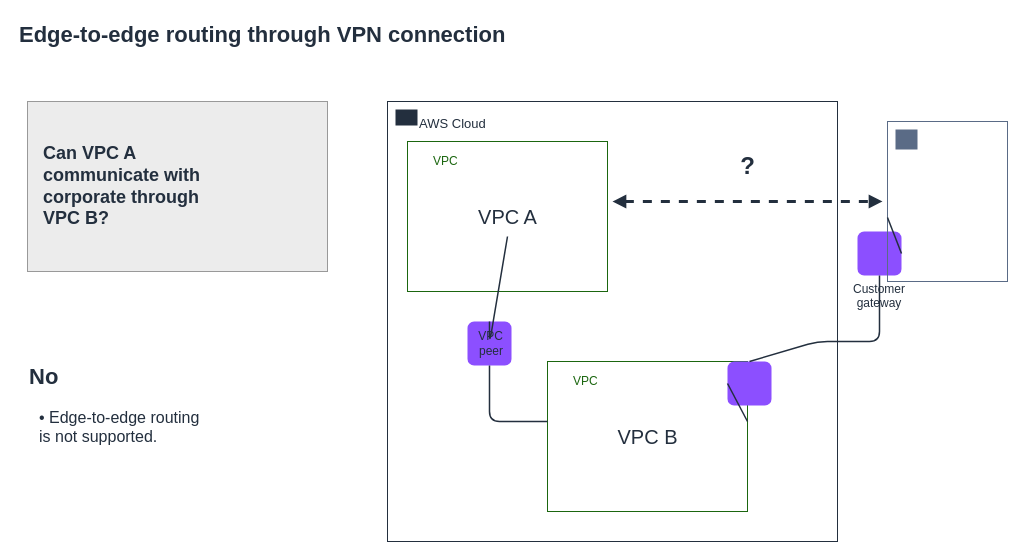
Some shapes in this 1025 by 559 pixel diagram are drawn without their labels. The box of each missing label's shape, as (x1, y1, x2, y2) in pixels:
aws: (395, 109, 417, 125)
Corporate data center: (886, 120, 1008, 282)
Virtual private gateway: (727, 361, 771, 405)
